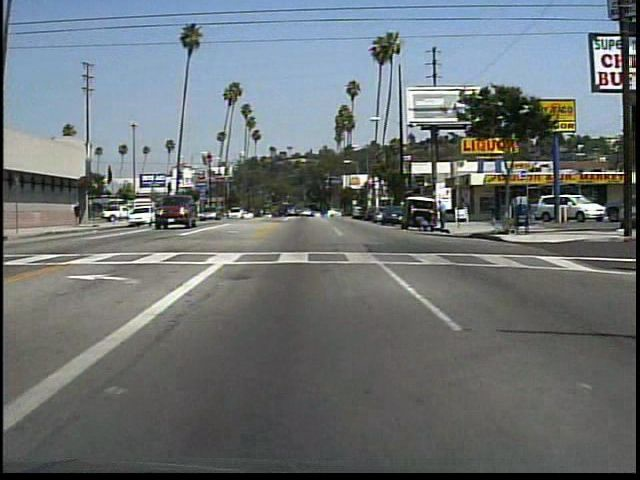person: (436, 197, 452, 233), (483, 192, 498, 221), (414, 215, 431, 233), (74, 199, 84, 228)
